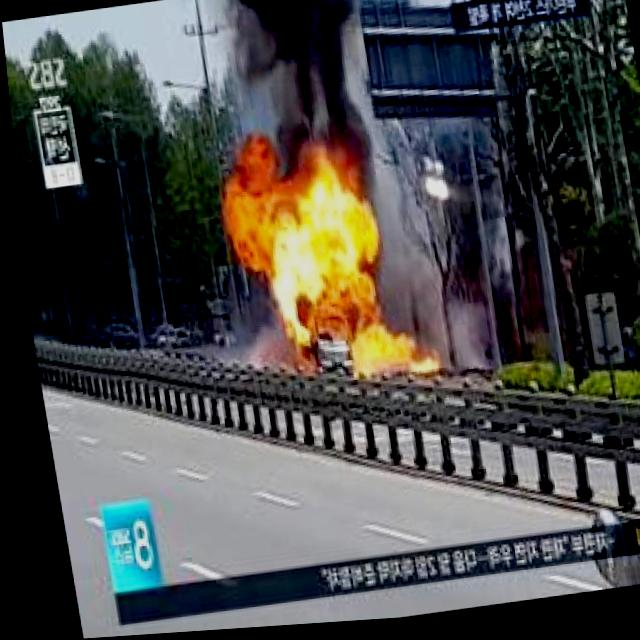Fire: (201, 118, 382, 345), (327, 310, 440, 395)
Smoke: (207, 0, 370, 140)
